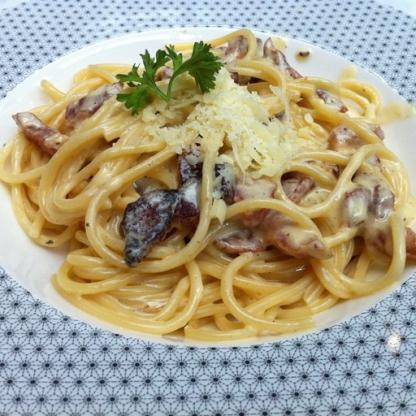pasta: (25, 35, 416, 327)
